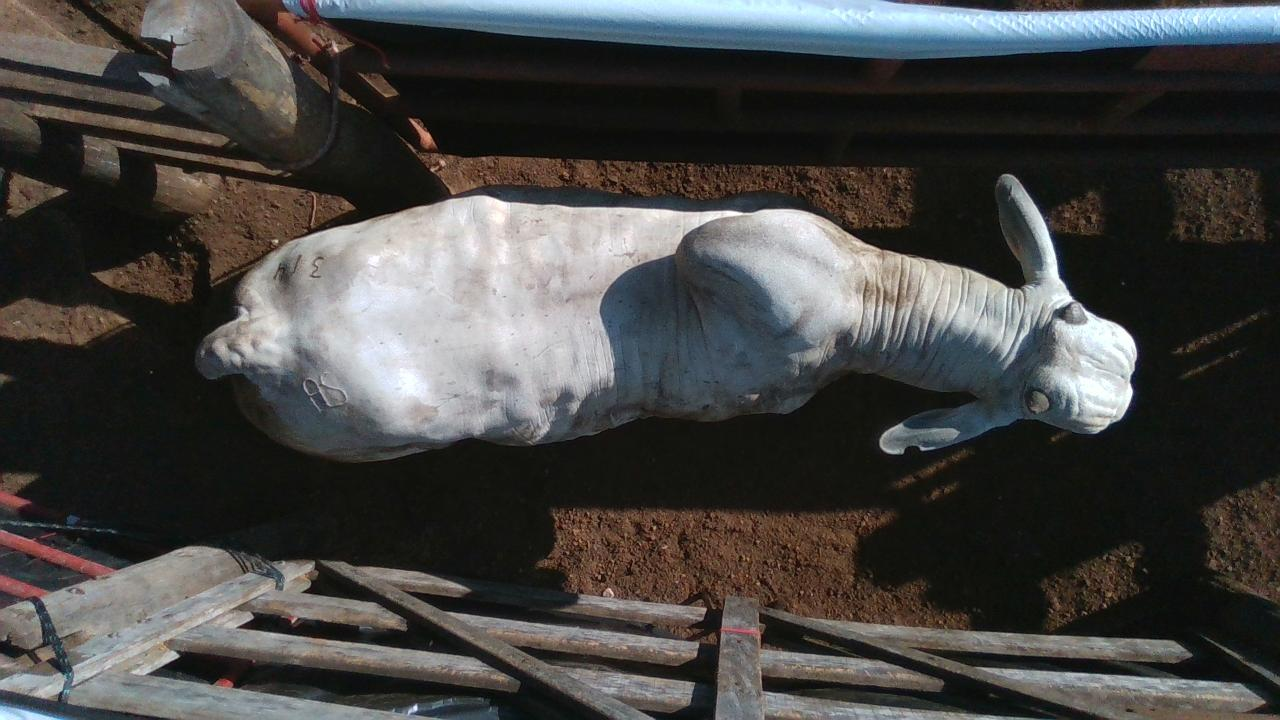cattle: (192, 172, 1139, 465)
